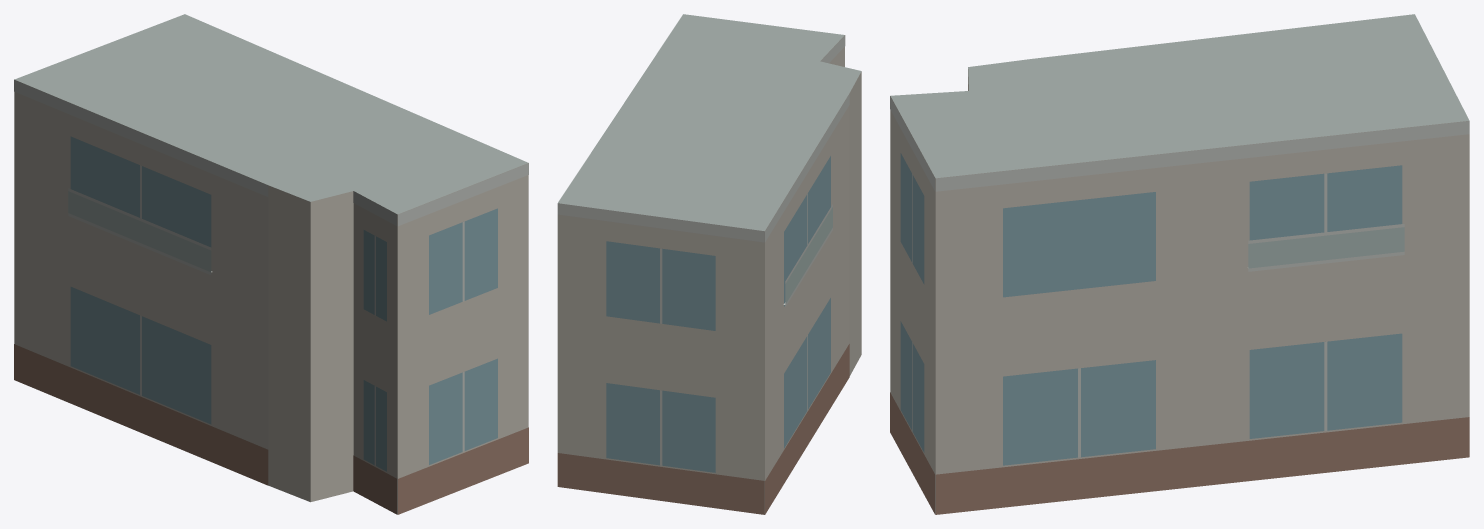
Rendered from survey-upis-32462518.glb.
The picture shows the model from 3 angles, left to right: view 1: azimuth 30°, elevation 25°; view 2: azimuth 150°, elevation 25°; view 3: azimuth 270°, elevation 25°; orthographic projection. The views are drawn at different scales.
Parts seen in each view (by area): view 1: survey-upis-32462518.tmp; view 2: survey-upis-32462518.tmp; view 3: survey-upis-32462518.tmp.
Boxes of the visible parts, box(x1,y1,x2,y2) form: survey-upis-32462518.tmp: box(14, 14, 528, 514); survey-upis-32462518.tmp: box(557, 14, 861, 514); survey-upis-32462518.tmp: box(890, 14, 1469, 514).
Size of the model in its own units: 6.4 by 6.1 by 9.53.
